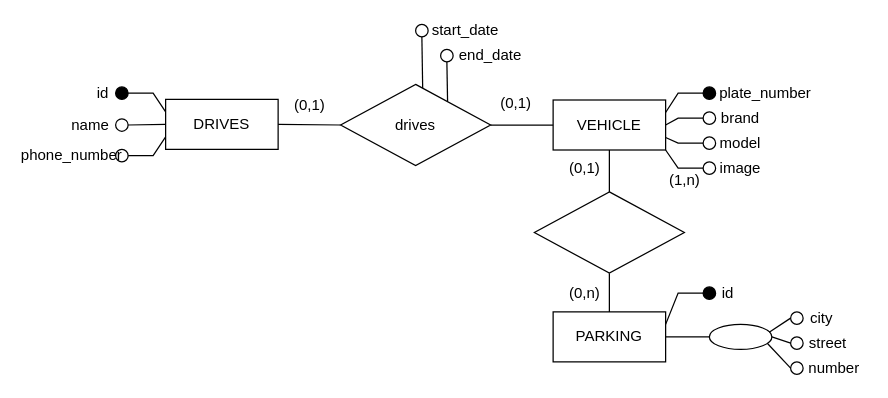
The diagram is 888 pixels wide and 398 high, and some of its shapes have lost their labels. Here are the shapes that lost their labels. From the top down, the centre of each, then its label:
the point at 608,232: park
the point at 740,336: address
